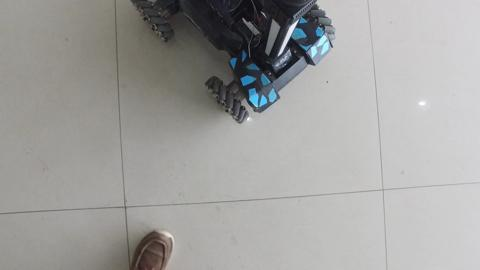chariot: (125, 5, 350, 110)
